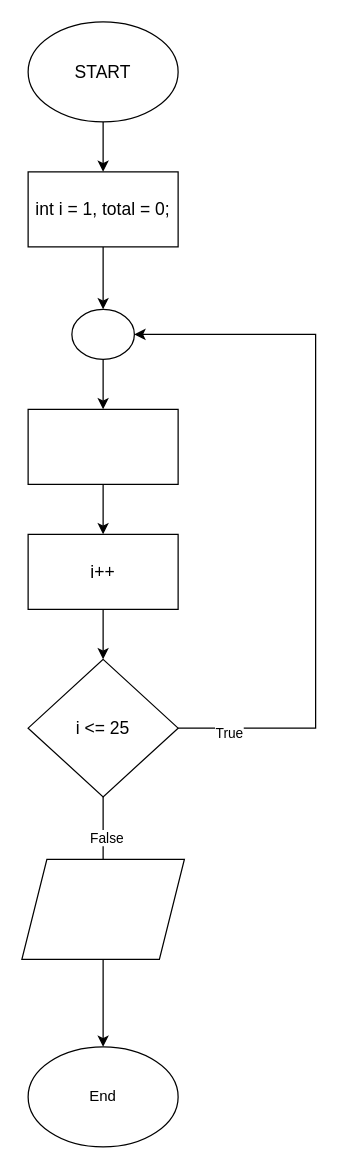
Image size: 348x1169. Some labels were removed from this diagram. Here are the shapes that lost their labels. From the top down, the box of each, then its label:
(27, 408, 178, 484): total += i
(21, 858, 184, 959): total
